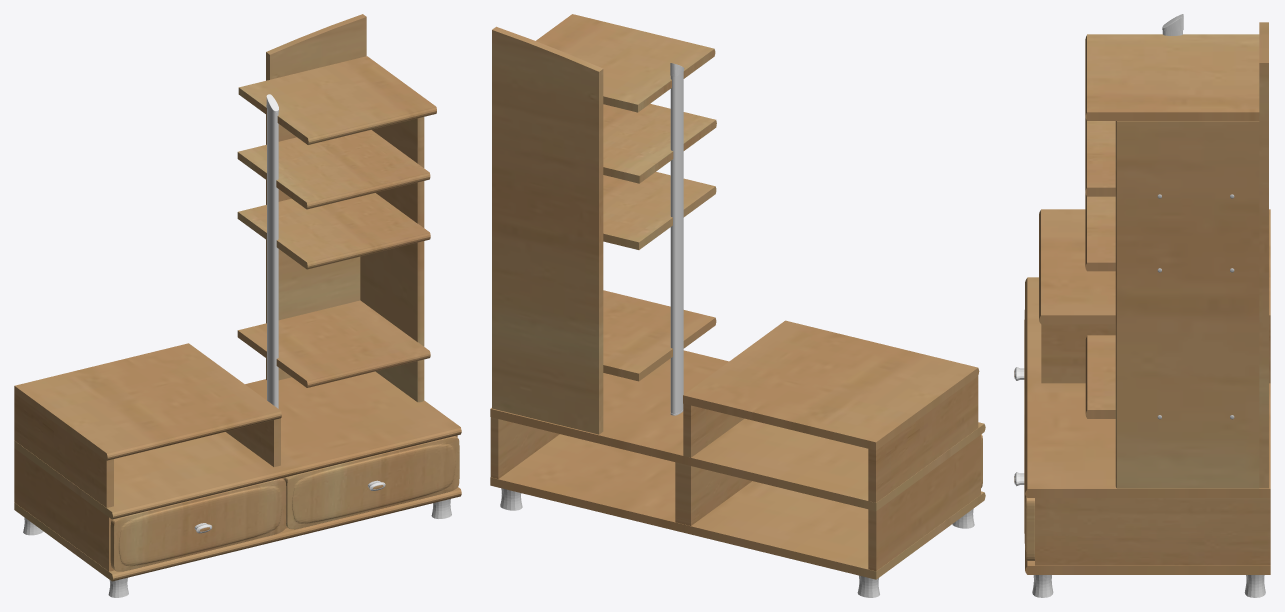
The model's file is b0-televisioncabinet.glb.
The picture shows the model from 3 angles, left to right: view 1: azimuth 30°, elevation 25°; view 2: azimuth 150°, elevation 25°; view 3: azimuth 270°, elevation 25°; orthographic projection. The views are drawn at different scales.
Visible parts, largest first — view 1: low_part_Cube.002, tv_support_flat.001_Cube.013, dvd_vhs_flats.004_Cube.021, doors.001_Cube.030, doors.002_Cube.031, dvd_vhs_flats.001_Cube.018, DVD_VHS_holder.001_Cube.016, dvd_vhs_flats.003_Cube.020, back_vhsDVD.001_Cube.027, dvd_vhs_flats.002_Cube.019, tv_support_Walls.001_Cube.009, L.P._supports_Cube.006 (+2 smaller); view 2: back_vhsDVD.001_Cube.027, low_part_Cube.002, tv_support_flat.001_Cube.013, L.P._supports_Cube.006, dvd_vhs_flats.004_Cube.021, tv_support_Walls.001_Cube.009, dvd_vhs_flats.001_Cube.018, dvd_vhs_flats.003_Cube.020, dvd_vhs_flats.002_Cube.019, flashy_supporter.001_Cube.025, noga_Cube; view 3: DVD_VHS_holder.001_Cube.016, L.P._supports_Cube.006, low_part_Cube.002, dvd_vhs_flats.004_Cube.021, tv_support_flat.001_Cube.013, back_vhsDVD.001_Cube.027, tv_support_Walls.001_Cube.009, dvd_vhs_flats.001_Cube.018, dvd_vhs_flats.003_Cube.020, dvd_vhs_flats.002_Cube.019, doors.002_Cube.031, noga_Cube (+1 smaller).
Boxes of the visible parts, x1=… form: low_part_Cube.002: x1=14, y1=371, x2=461, y2=581; tv_support_flat.001_Cube.013: x1=14, y1=343, x2=281, y2=460; dvd_vhs_flats.004_Cube.021: x1=238, y1=56, x2=436, y2=144; doors.001_Cube.030: x1=110, y1=478, x2=286, y2=571; doors.002_Cube.031: x1=284, y1=436, x2=459, y2=529; dvd_vhs_flats.001_Cube.018: x1=237, y1=300, x2=430, y2=387; DVD_VHS_holder.001_Cube.016: x1=360, y1=117, x2=424, y2=402; dvd_vhs_flats.003_Cube.020: x1=237, y1=130, x2=430, y2=209; back_vhsDVD.001_Cube.027: x1=266, y1=14, x2=366, y2=380; dvd_vhs_flats.002_Cube.019: x1=237, y1=193, x2=430, y2=269; tv_support_Walls.001_Cube.009: x1=14, y1=393, x2=280, y2=507; L.P._supports_Cube.006: x1=14, y1=435, x2=457, y2=571; back_vhsDVD.001_Cube.027: x1=492, y1=26, x2=603, y2=434; low_part_Cube.002: x1=490, y1=350, x2=985, y2=579; tv_support_flat.001_Cube.013: x1=683, y1=320, x2=979, y2=450; L.P._supports_Cube.006: x1=490, y1=417, x2=980, y2=571; dvd_vhs_flats.004_Cube.021: x1=536, y1=14, x2=715, y2=112; tv_support_Walls.001_Cube.009: x1=683, y1=376, x2=978, y2=502; dvd_vhs_flats.001_Cube.018: x1=603, y1=290, x2=716, y2=381; dvd_vhs_flats.003_Cube.020: x1=603, y1=103, x2=716, y2=183; dvd_vhs_flats.002_Cube.019: x1=603, y1=172, x2=716, y2=249; flashy_supporter.001_Cube.025: x1=670, y1=63, x2=684, y2=415; noga_Cube: x1=500, y1=488, x2=974, y2=597; DVD_VHS_holder.001_Cube.016: x1=1115, y1=121, x2=1259, y2=488; L.P._supports_Cube.006: x1=1035, y1=498, x2=1270, y2=565; low_part_Cube.002: x1=1025, y1=277, x2=1270, y2=574; dvd_vhs_flats.004_Cube.021: x1=1085, y1=34, x2=1259, y2=120; tv_support_flat.001_Cube.013: x1=1039, y1=209, x2=1270, y2=324; back_vhsDVD.001_Cube.027: x1=1259, y1=22, x2=1268, y2=488; tv_support_Walls.001_Cube.009: x1=1041, y1=324, x2=1270, y2=383; dvd_vhs_flats.001_Cube.018: x1=1085, y1=335, x2=1115, y2=418; dvd_vhs_flats.003_Cube.020: x1=1085, y1=117, x2=1115, y2=196; dvd_vhs_flats.002_Cube.019: x1=1085, y1=193, x2=1115, y2=271; doors.002_Cube.031: x1=1014, y1=415, x2=1034, y2=560; noga_Cube: x1=1032, y1=575, x2=1265, y2=597.
Bounding box in the file's own units: 1.35 × 1.6 × 0.693.
3 materials, 1 textured.
